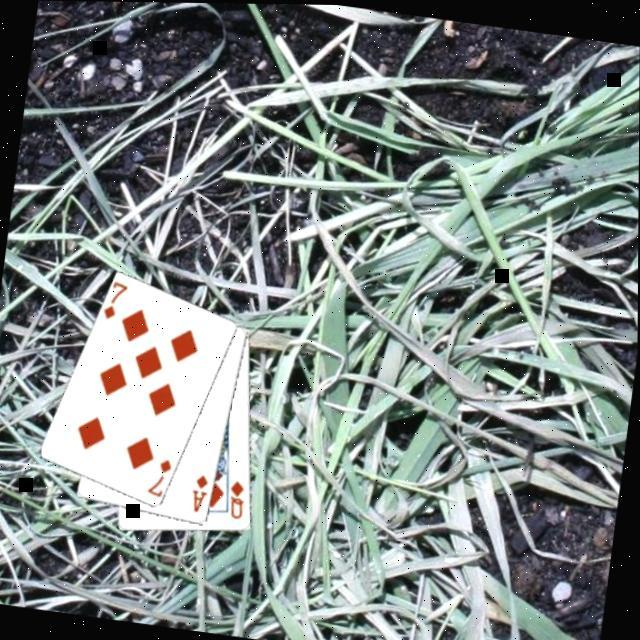7D: (101, 276, 132, 324), (144, 452, 176, 498)
AD: (188, 470, 214, 514)
QD: (224, 475, 252, 520)
